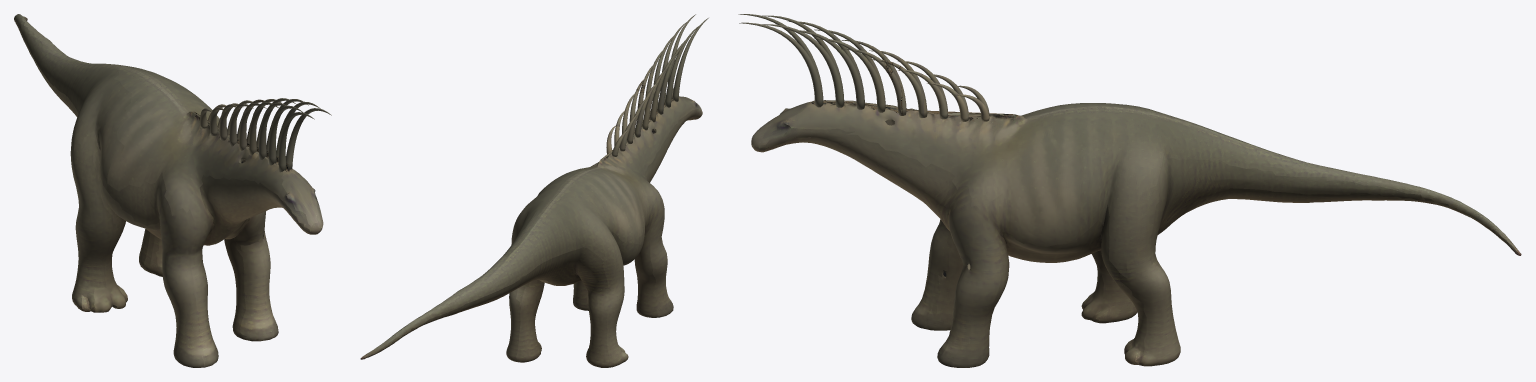
The picture shows the model from 3 angles, left to right: view 1: azimuth 30°, elevation 25°; view 2: azimuth 150°, elevation 25°; view 3: azimuth 270°, elevation 25°; orthographic projection. The views are drawn at different scales.
Visible parts, largest first — view 1: geometry_0, whole-paired-cervical-reconstruction; view 2: geometry_0, whole-paired-cervical-reconstruction; view 3: geometry_0, whole-paired-cervical-reconstruction.
Part boxes in pixels (x1,y1,x2,y2): geometry_0: (14,14,323,367); whole-paired-cervical-reconstruction: (193,98,331,172); geometry_0: (360,96,702,367); whole-paired-cervical-reconstruction: (601,14,708,160); geometry_0: (751,100,1521,367); whole-paired-cervical-reconstruction: (738,14,1005,121).
Bounding box in the file's own units: 0.2315 × 0.4612 × 1.02.
Materials: 1 (1 with a texture image).
